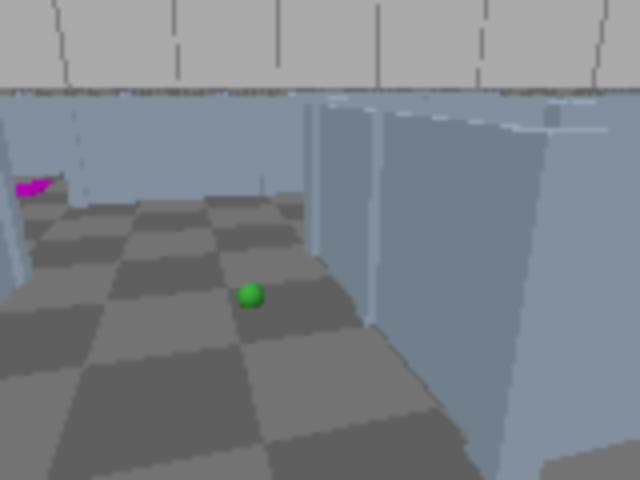puck: (235, 279, 265, 315)
